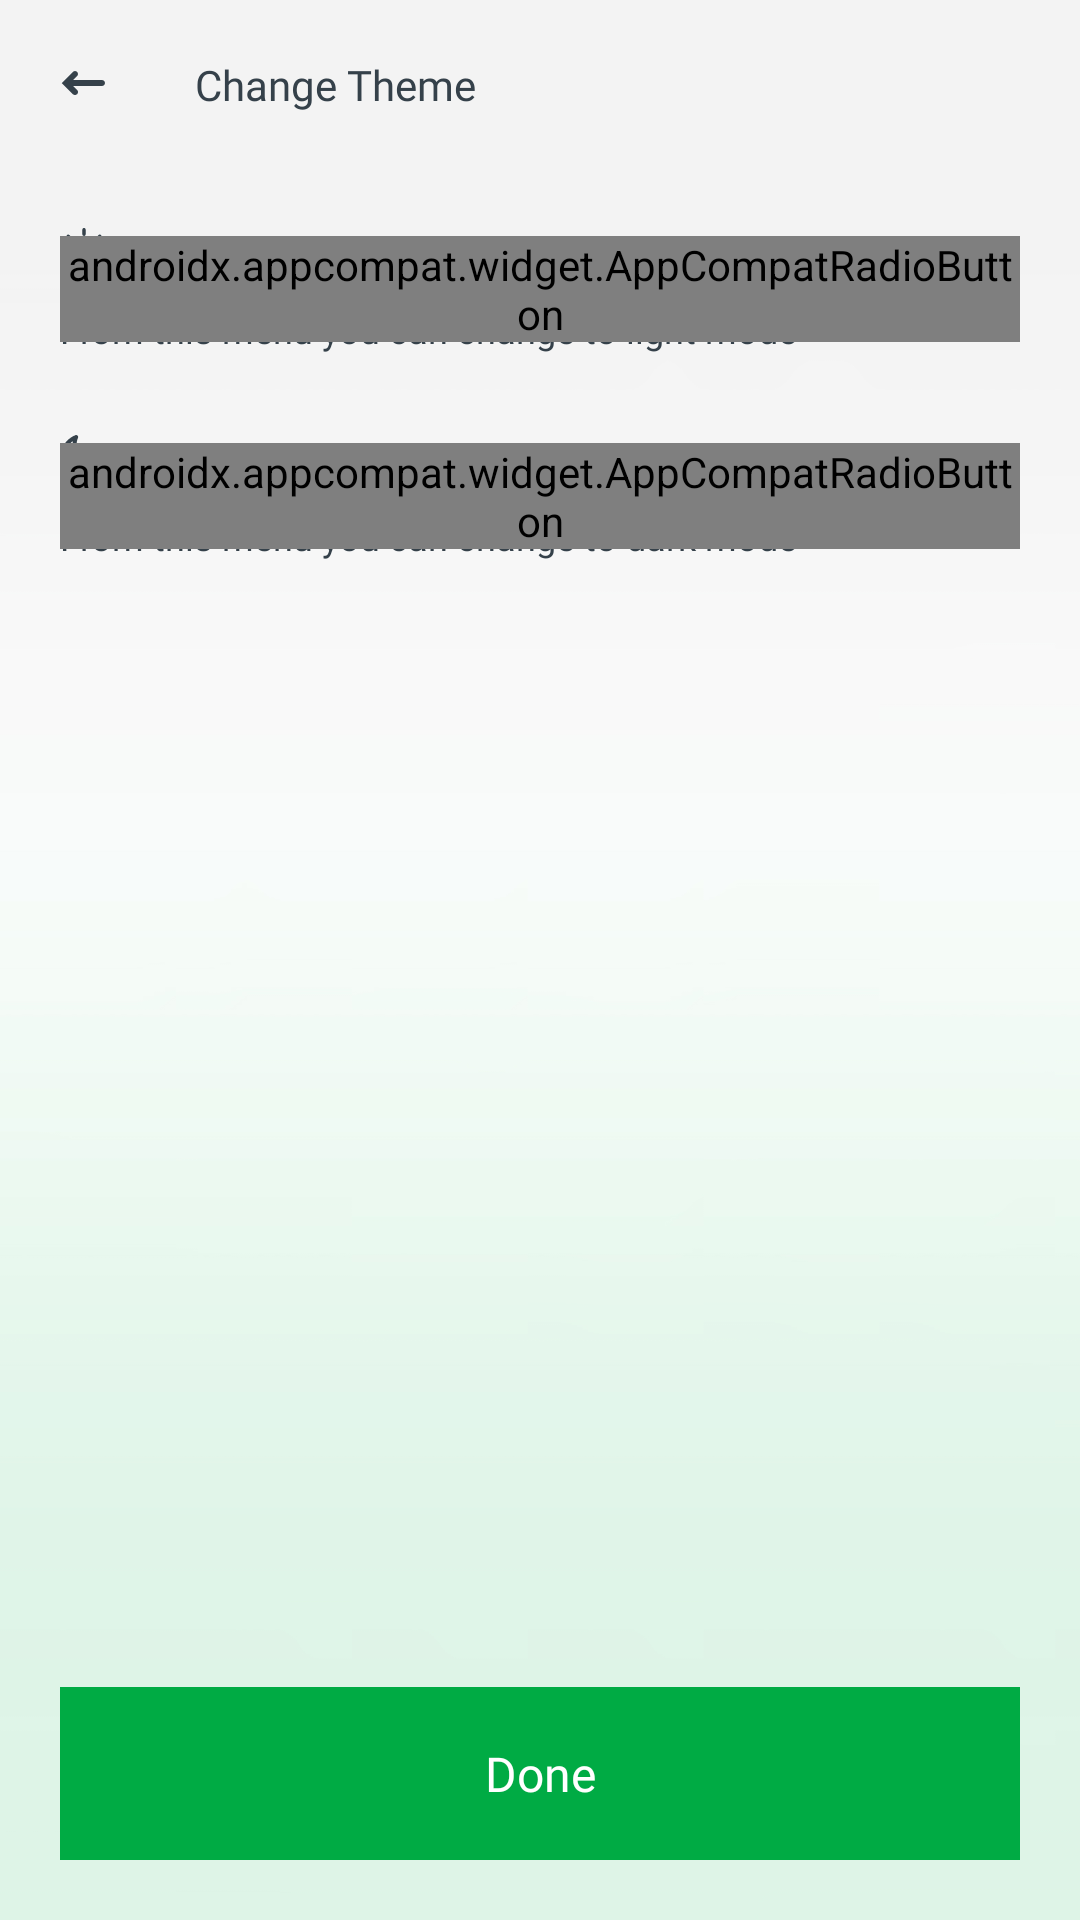

Screen size 1080*1920. Icon name, then its center in pixels as (x=x, y=y):
back: (x=83, y=83)
